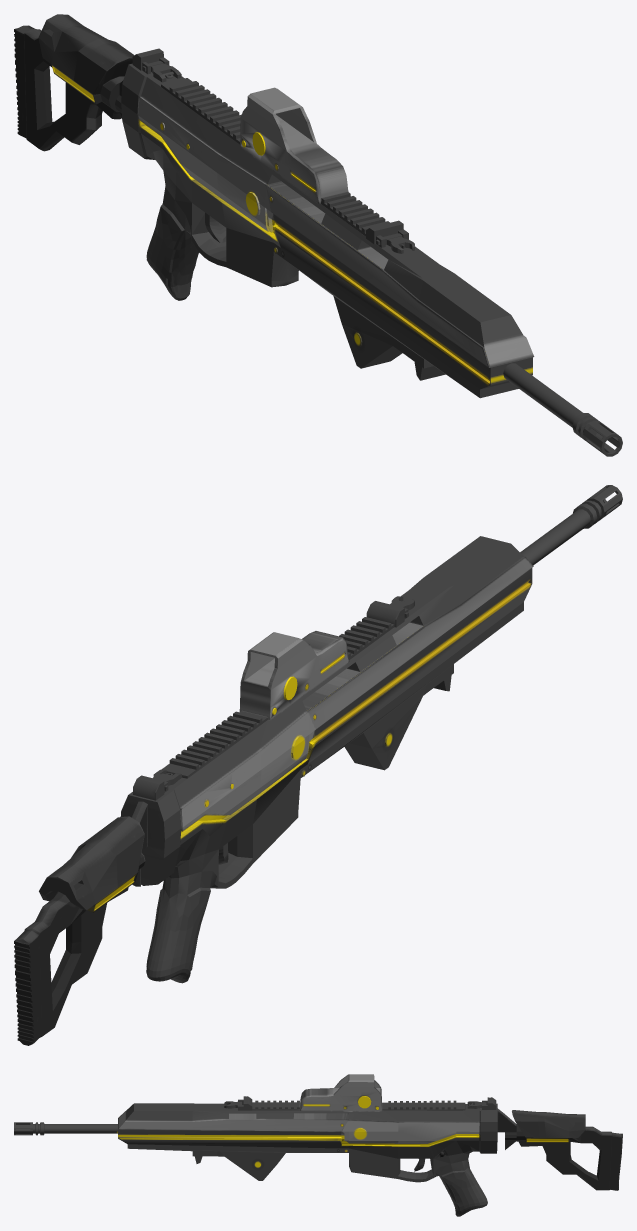
Rendered from Rifle_risize.FBX.
3 views of the same model, one above another, from view 1: azimuth 30°, elevation 25°; view 2: azimuth 150°, elevation 25°; view 3: azimuth 270°, elevation 25° (orthographic). The views are drawn at different scales.
Parts seen in each view (by area): view 1: Rifle, Rifle_Effect; view 2: Rifle, Rifle_Effect; view 3: Rifle, Rifle_Effect.
Boxes of the visible parts, bbox=[...] form: Rifle: bbox=[14, 14, 622, 456]; Rifle_Effect: bbox=[54, 68, 489, 380]; Rifle: bbox=[14, 485, 622, 1045]; Rifle_Effect: bbox=[95, 581, 528, 908]; Rifle: bbox=[14, 1074, 622, 1216]; Rifle_Effect: bbox=[118, 1096, 568, 1168].
Size of the model in its own units: 0.0466 by 0.2471 by 0.9825.
